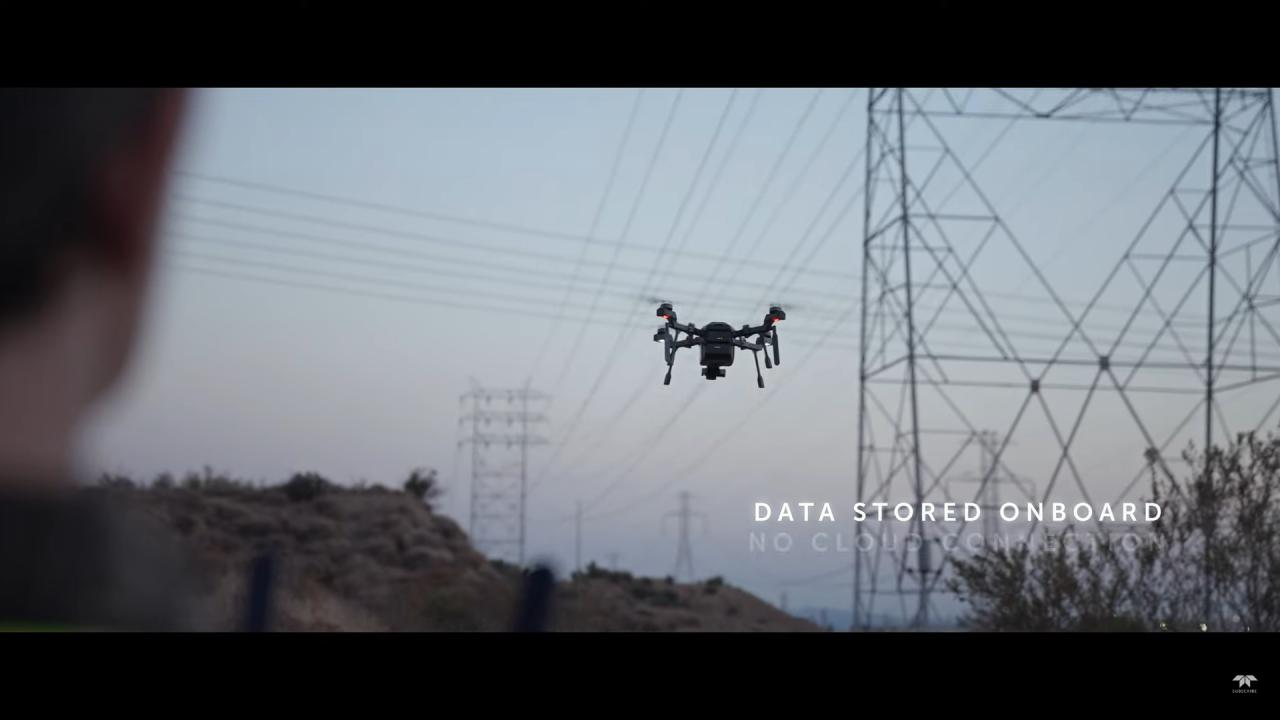Drone: (617, 280, 819, 402)
